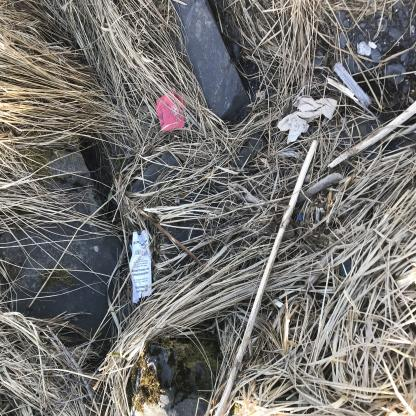trash: (78, 173, 148, 206), (200, 365, 245, 416), (211, 204, 250, 255)
